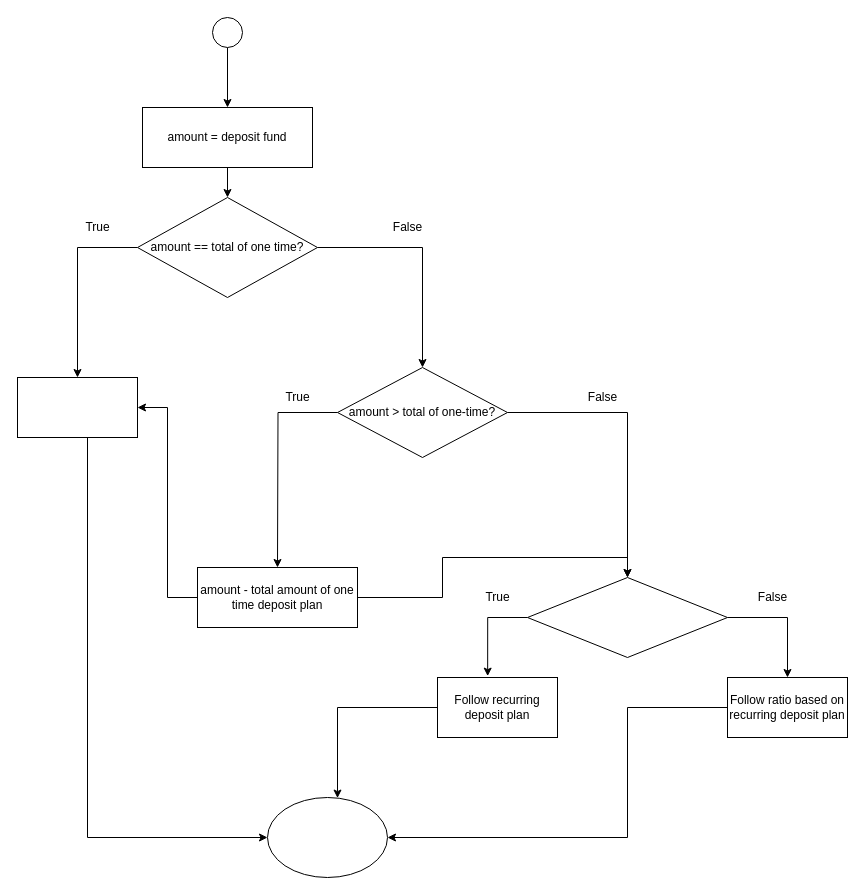
The diagram is 865 pixels wide and 895 high, and some of its shapes have lost their labels. Here are the shapes that lost their labels. From the top down, the centre of each, then its label:
At pixel 77 407: "Follow one time deposit plan".
At pixel 627 617: "amount == total of recurring deposit plan?".
At pixel 327 837: "Allocation done".
